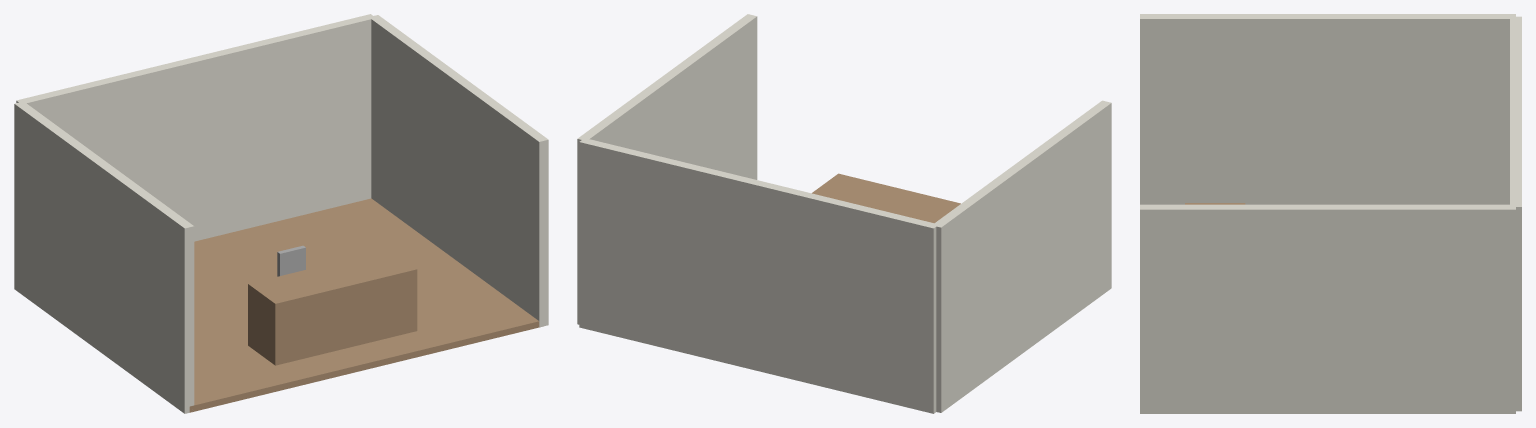
The model's file is office_reception.glb.
3 views of the same model, side by side, from view 1: azimuth 30°, elevation 25°; view 2: azimuth 150°, elevation 25°; view 3: azimuth 270°, elevation 25° (orthographic). The views are drawn at different scales.
Parts seen in each view (by area): view 1: back, left, right, floor, desk, back.001; view 2: back, left, right, desk; view 3: right, left, back.
Part boxes in pixels (bbox=[...]): back: bbox=[16, 14, 375, 241]; left: bbox=[14, 101, 194, 413]; right: bbox=[370, 15, 548, 327]; floor: bbox=[189, 198, 539, 412]; desk: bbox=[248, 249, 417, 365]; back.001: bbox=[277, 245, 305, 276]; back: bbox=[579, 138, 938, 413]; left: bbox=[935, 100, 1111, 412]; right: bbox=[577, 14, 757, 324]; desk: bbox=[812, 173, 960, 223]; right: bbox=[1140, 204, 1515, 413]; left: bbox=[1140, 14, 1515, 204]; back: bbox=[1510, 16, 1521, 411].
Size of the model in its own units: 6.16 by 3 by 5.08.
